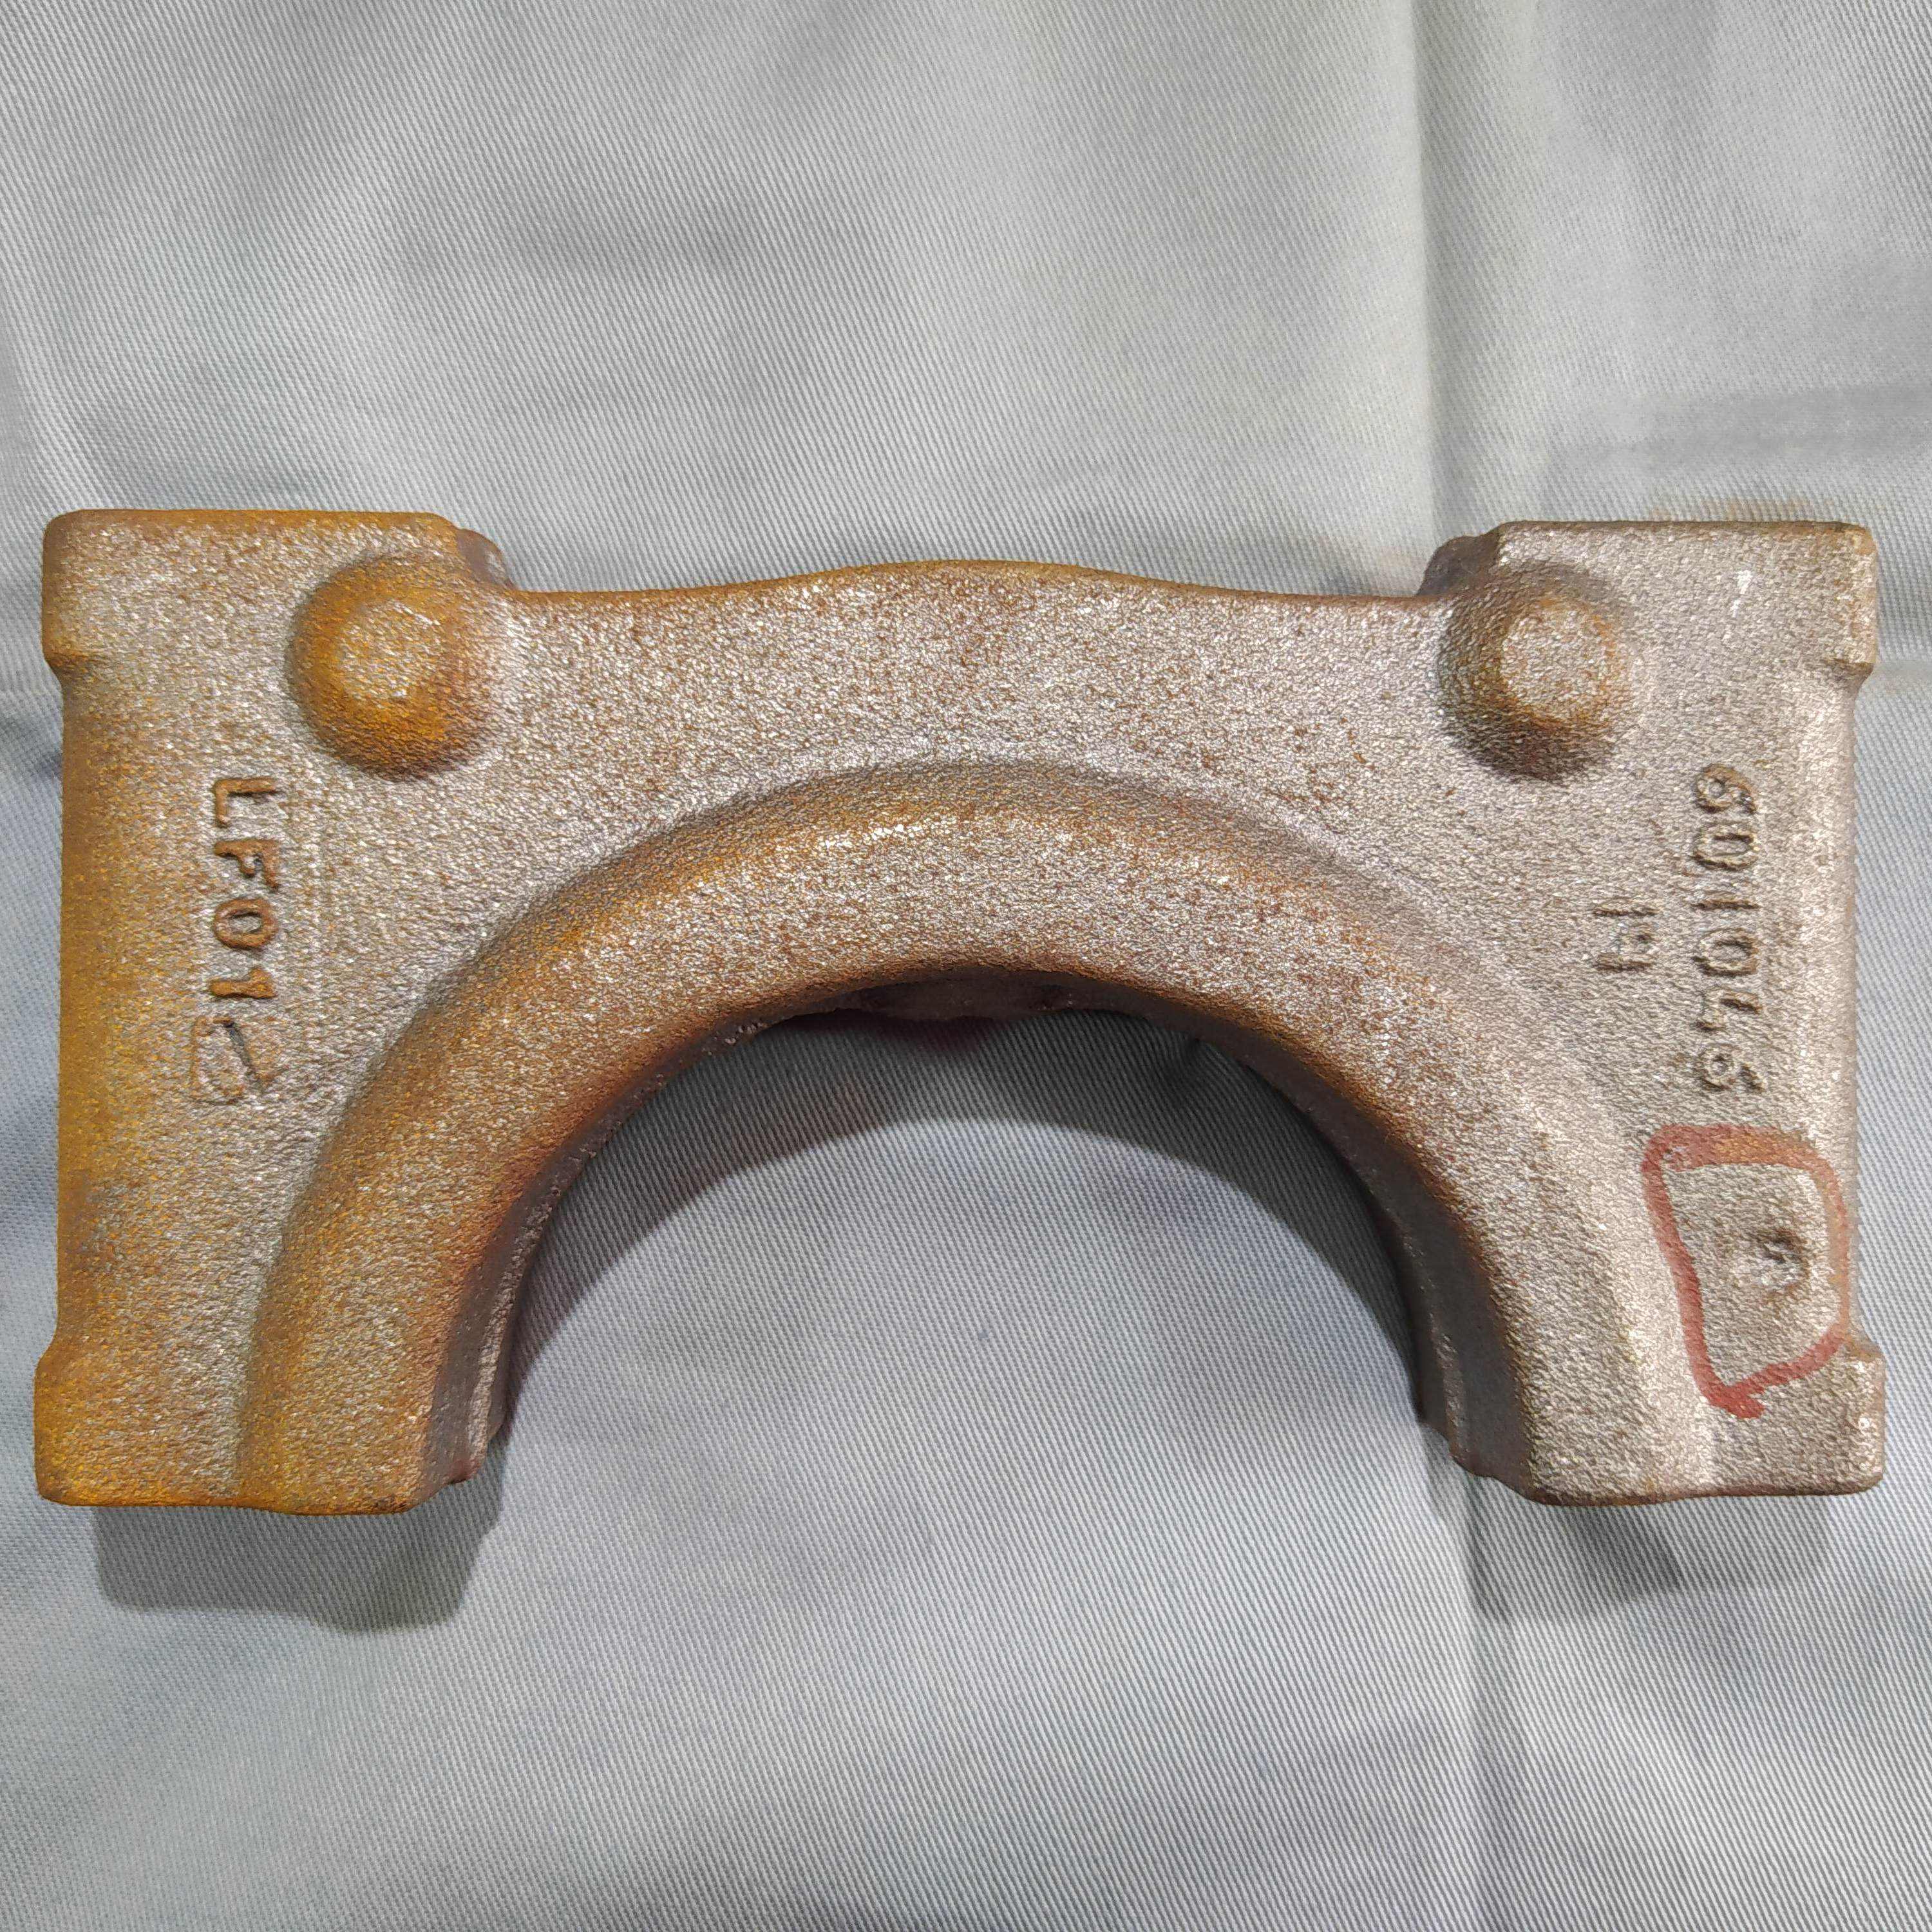buraco: (1725, 1223, 1819, 1307)
